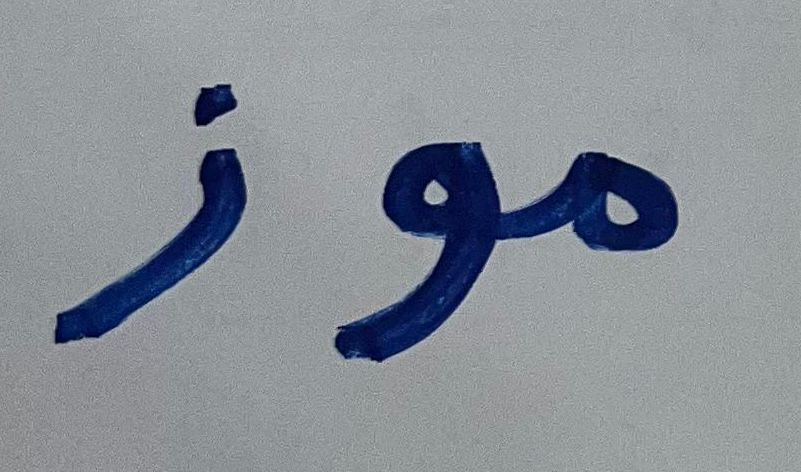hamza: (30, 54, 282, 381)
meem: (527, 103, 698, 279)
waw: (292, 88, 515, 377)
